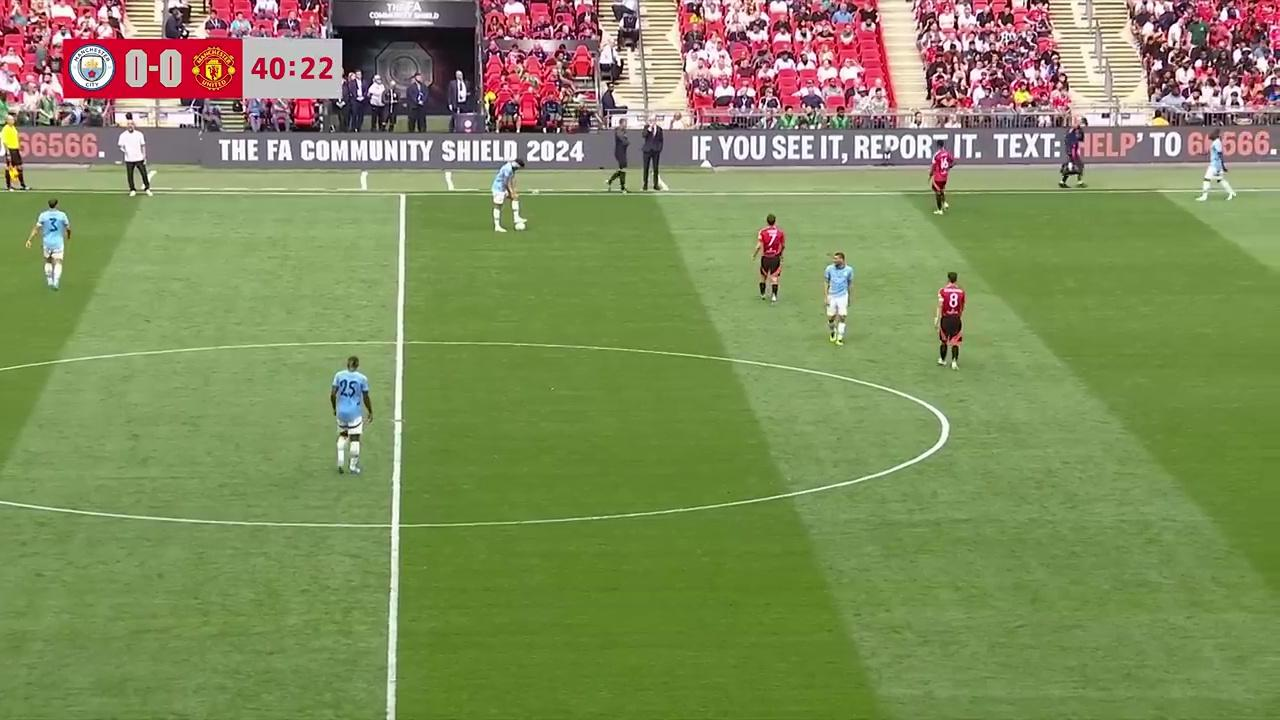ball: (516, 215, 527, 231)
player: (329, 356, 373, 476), (25, 197, 70, 290), (751, 214, 785, 302), (935, 272, 966, 368), (824, 251, 853, 346), (1196, 133, 1235, 201), (491, 154, 525, 232), (928, 145, 951, 214)
referee: (0, 113, 34, 190)
